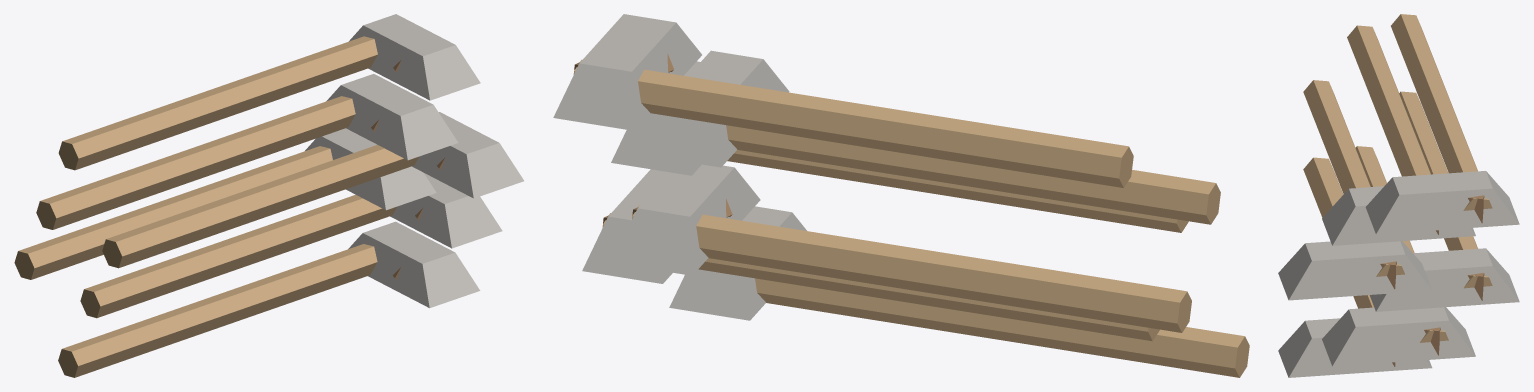
Rendered from item_010_ground_axe_l.glb.
3 renders of one model, left to right at view 1: azimuth 30°, elevation 25°; view 2: azimuth 150°, elevation 25°; view 3: azimuth 270°, elevation 25°, orthographic. The views are drawn at different scales.
Visible parts, largest first — view 1: item_010_ground_axe_l; view 2: item_010_ground_axe_l; view 3: item_010_ground_axe_l.
Boxes of the visible parts, box(x1,y1,x2,y2) form: item_010_ground_axe_l: box(14, 14, 523, 377); item_010_ground_axe_l: box(553, 14, 1249, 377); item_010_ground_axe_l: box(1278, 14, 1519, 377).
Size of the model in its own units: 0.7039 by 0.3094 by 0.3318.
